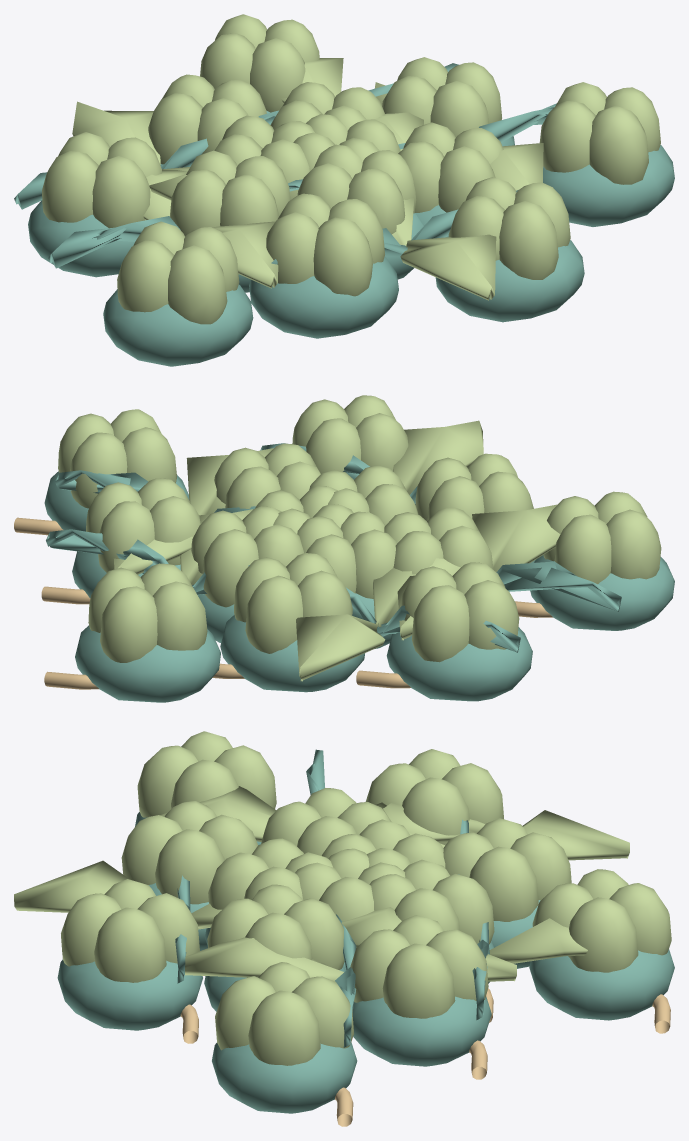
The model's file is bio_oxygen_reef_25_far.glb.
3 views of the same model, one above another, from view 1: azimuth 30°, elevation 25°; view 2: azimuth 150°, elevation 25°; view 3: azimuth 270°, elevation 25° (orthographic). The views are drawn at different scales.
Visible parts, largest first — view 1: Lobed gas sac.048, Lobed gas sac.052, Lobed gas sac.028, Lobed gas sac.036, Lobed gas sac.040, Lobed gas sac.016, Lobed gas sac.044, Photosynthetic cushion.012, Photosynthetic cushion.007, Lobed gas sac.032, Lobed gas sac.020, Lobed gas sac.024 (+16 smaller); view 2: Lobed gas sac.044, Lobed gas sac.036, Lobed gas sac.048, Lobed gas sac.024, Lobed gas sac.052, Photosynthetic cushion.011, Lobed gas sac.032, Lobed gas sac.040, Lobed gas sac.012, Photosynthetic cushion.009, Lobed gas sac.028, Low buttress leaf.005 (+23 smaller); view 3: Lobed gas sac.052, Lobed gas sac.040, Lobed gas sac.032, Lobed gas sac.044, Lobed gas sac.028, Lobed gas sac.024, Lobed gas sac.048, Lobed gas sac.036, Lobed gas sac.020, Photosynthetic cushion.013, Photosynthetic cushion.011, Photosynthetic cushion.008 (+19 smaller).
Boxes of the visible parts, x1,y1,x2,y2 form: Lobed gas sac.048: (117, 221, 239, 324); Lobed gas sac.052: (539, 82, 660, 184); Lobed gas sac.028: (266, 193, 384, 296); Lobed gas sac.036: (42, 132, 162, 228); Lobed gas sac.040: (448, 177, 570, 279); Lobed gas sac.016: (170, 150, 290, 236); Lobed gas sac.044: (200, 14, 319, 112); Photosynthetic cushion.012: (103, 284, 253, 366); Photosynthetic cushion.007: (249, 256, 398, 338); Lobed gas sac.032: (382, 57, 501, 137); Lobed gas sac.020: (398, 122, 503, 212); Lobed gas sac.024: (148, 74, 266, 164); Lobed gas sac.044: (88, 563, 207, 662); Lobed gas sac.036: (401, 562, 519, 662); Lobed gas sac.048: (543, 491, 661, 584); Lobed gas sac.024: (234, 553, 352, 653); Lobed gas sac.052: (58, 409, 176, 508); Photosynthetic cushion.011: (75, 625, 220, 702); Lobed gas sac.032: (86, 478, 200, 572); Lobed gas sac.040: (292, 395, 408, 473); Lobed gas sac.012: (191, 506, 303, 607); Photosynthetic cushion.009: (386, 627, 532, 701); Lobed gas sac.028: (415, 453, 533, 521); Low buttress leaf.005: (296, 558, 460, 681); Lobed gas sac.052: (215, 962, 353, 1065); Lobed gas sac.040: (61, 879, 199, 982); Lobed gas sac.032: (350, 915, 488, 1018); Lobed gas sac.044: (532, 869, 671, 972); Lobed gas sac.028: (121, 801, 257, 904); Lobed gas sac.024: (443, 818, 571, 921); Lobed gas sac.048: (137, 731, 276, 817); Lobed gas sac.036: (365, 749, 503, 845); Lobed gas sac.020: (207, 884, 344, 977); Photosynthetic cushion.013: (212, 1042, 357, 1113); Photosynthetic cushion.011: (529, 949, 674, 1020); Photosynthetic cushion.008: (352, 996, 491, 1066).
Size of the model in its own units: 2.38 by 0.4497 by 2.18.
